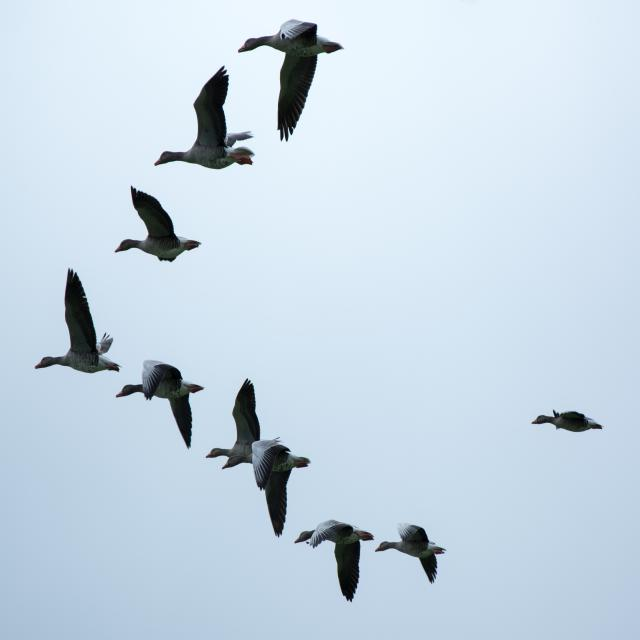bird: (236, 27, 345, 143), (156, 68, 251, 175), (36, 270, 124, 374), (116, 357, 207, 450), (121, 187, 203, 265), (297, 523, 373, 606), (251, 446, 312, 538), (207, 379, 263, 475), (374, 522, 449, 584), (532, 410, 606, 438)
